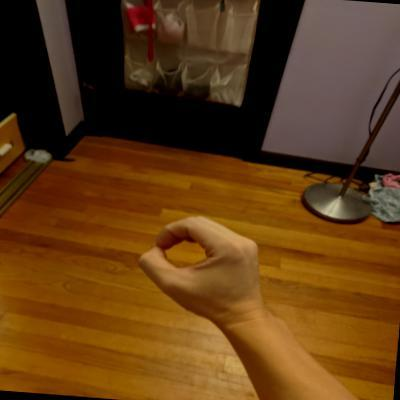hand: (130, 208, 275, 326)
